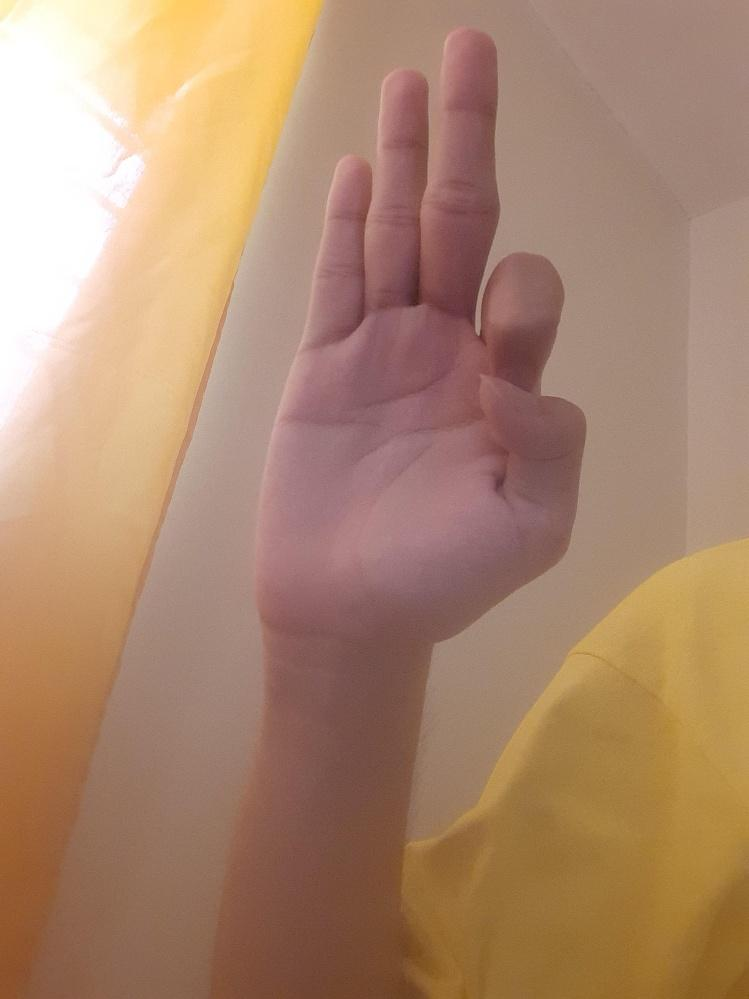f: (248, 26, 583, 644)
